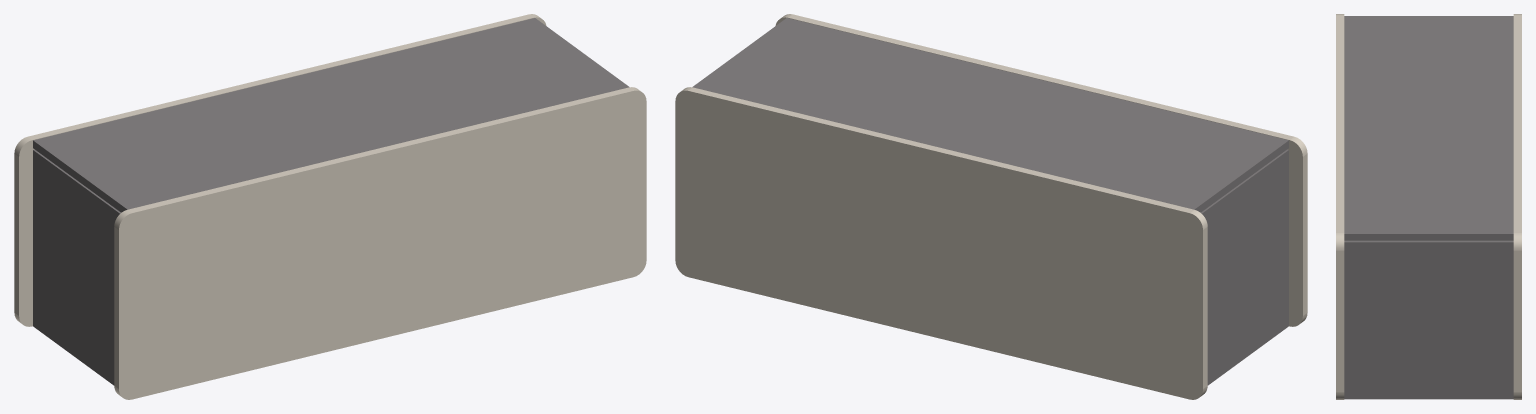
File: 2pir_skrzynia.obj
The picture shows the model from 3 angles, left to right: view 1: azimuth 30°, elevation 25°; view 2: azimuth 150°, elevation 25°; view 3: azimuth 270°, elevation 25°; orthographic projection. The views are drawn at different scales.
Parts seen in each view (by area): view 1: Rectangle15, Box02, Rectangle16; view 2: Rectangle16, Box02, Rectangle15; view 3: Box02, Rectangle16, Rectangle15.
Boxes of the visible parts, <box> form: Rectangle15: <box>114,87,646,399</box>; Box02: <box>33,18,629,385</box>; Rectangle16: <box>14,14,546,326</box>; Rectangle16: <box>675,87,1207,399</box>; Box02: <box>692,18,1288,385</box>; Rectangle15: <box>775,14,1307,326</box>; Box02: <box>1344,16,1513,399</box>; Rectangle16: <box>1513,14,1521,399</box>; Rectangle15: <box>1336,14,1344,399</box>.
Bounding box in the file's own units: 130 × 43.95 × 44.67.
